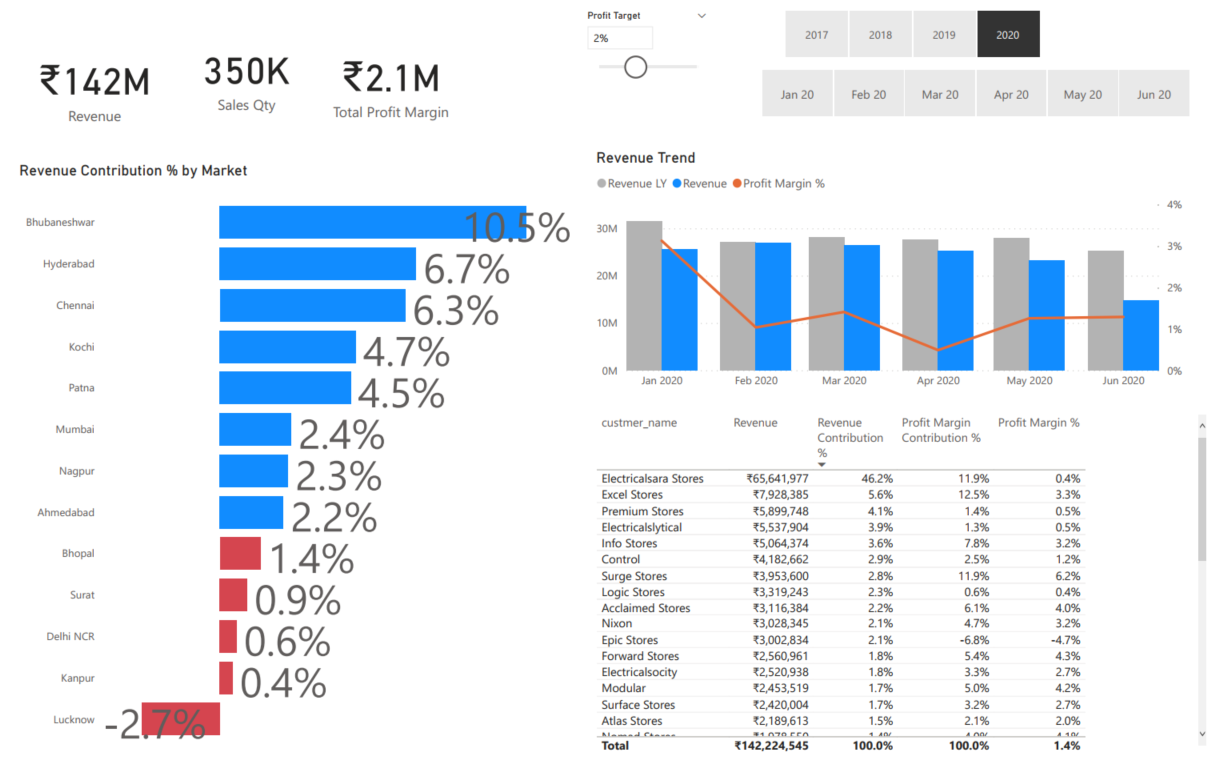

The page's visual inventory and layout, read from the dashboard file:
{"tool":"powerbi","page":{"name":"Profit Analysis","canvas":[1350,850],"ordinal":1},"visuals":[{"type":"card","fields":{"Values":["BaseMeasures (2).Revenue"]},"box":[0,0,179.6,184.8],"z":0},{"type":"card","fields":{"Values":["BaseMeasures (2).Sales Qty"]},"box":[179.6,0,164.1,193],"z":1000},{"type":"barChart","title":"Profit % by market","fields":{"Y":["BaseMeasures (2).Profit Margin %"],"Category":["sales markets.markets_name"]},"box":[464.5,184.8,230.2,664.8],"z":2000},{"type":"barChart","title":"Profit Contribution % by Market","fields":{"Y":["BaseMeasures (2).Profit Margin Contribution %"],"Category":["sales markets.markets_name"]},"box":[221.9,185.8,208.5,659.6],"z":3000},{"type":"slicer","fields":{"Values":["sales date.year"]},"box":[483.2,0,335.5,66.5],"z":4000},{"type":"slicer","fields":{"Values":["sales date.cy_date"]},"box":[818.6,0,531.7,66.5],"z":5000},{"type":"tableEx","title":"Top 5 Customers","fields":{"Values":["sales customers.custmer_name","BaseMeasures (2).Revenue","BaseMeasures (2).Revenue Contribution %","BaseMeasures (2).Profit Margin Contribution %","BaseMeasures (2).Profit Margin %"]},"box":[701.9,454.2,648.3,395.4],"z":6000},{"type":"lineChart","title":"Revenue Trend","fields":{"Y":["BaseMeasures (2).Revenue"],"Category":["sales date.cy_date"]},"box":[701.9,104.3,621.4,338.6],"z":7000},{"type":"card","fields":{"Values":["BaseMeasures (2).Total Profit Margin"]},"box":[349.9,0,161,176.5],"z":8000},{"type":"barChart","title":"Revenue Contribution % by Market","fields":{"Y":["BaseMeasures (2).Revenue Contribution %"],"Category":["sales markets.markets_name"]},"box":[0,185.8,219.9,654.5],"z":9000}]}

Visuals, with their boxes in screenshot pixels (x1, y1, x2, y2), scaled from the page's 1350x850 canvas onto the 1222x770 screenshot:
card - BaseMeasures (2).Revenue: bbox=[0, 0, 163, 167]
card - BaseMeasures (2).Sales Qty: bbox=[163, 0, 311, 175]
"Profit % by market" barChart: bbox=[420, 167, 629, 769]
"Profit Contribution % by Market" barChart: bbox=[201, 168, 390, 766]
slicer - sales date.year: bbox=[437, 0, 741, 60]
slicer - sales date.cy_date: bbox=[741, 0, 1221, 60]
"Top 5 Customers" tableEx: bbox=[635, 411, 1221, 769]
"Revenue Trend" lineChart: bbox=[635, 94, 1198, 401]
card - BaseMeasures (2).Total Profit Margin: bbox=[317, 0, 462, 160]
"Revenue Contribution % by Market" barChart: bbox=[0, 168, 199, 761]
